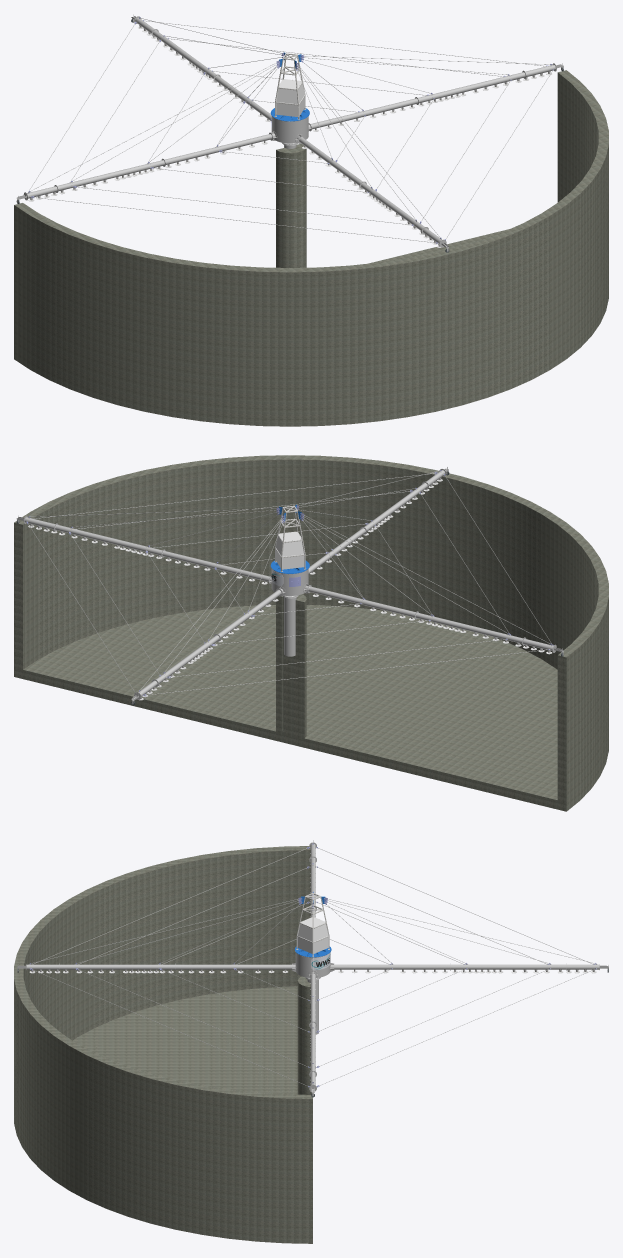
3 views of the same model, one above another, from view 1: azimuth 30°, elevation 25°; view 2: azimuth 150°, elevation 25°; view 3: azimuth 270°, elevation 25° (orthographic). The views are drawn at different scales.
Parts seen in each view (by area): view 1: Sólido1, Solid1 (×4), Sólido2; view 2: Sólido1, Solid1 (×5), Sólido2; view 3: Sólido1, Solid1 (×4).
Part boxes in pixels (x1,y1,x2,y2): Sólido1: (14, 70, 608, 426); Solid1 (×4): (57, 72, 525, 191); Sólido2: (271, 116, 308, 143); Sólido1: (14, 455, 608, 811); Solid1 (×5): (55, 524, 523, 656); Sólido2: (271, 569, 308, 595); Sólido1: (14, 846, 312, 1243); Solid1 (×4): (59, 964, 566, 969).
Bounding box in the file's own units: 31 × 12.63 × 30.79.
Materials: 31 (6 with a texture image).
